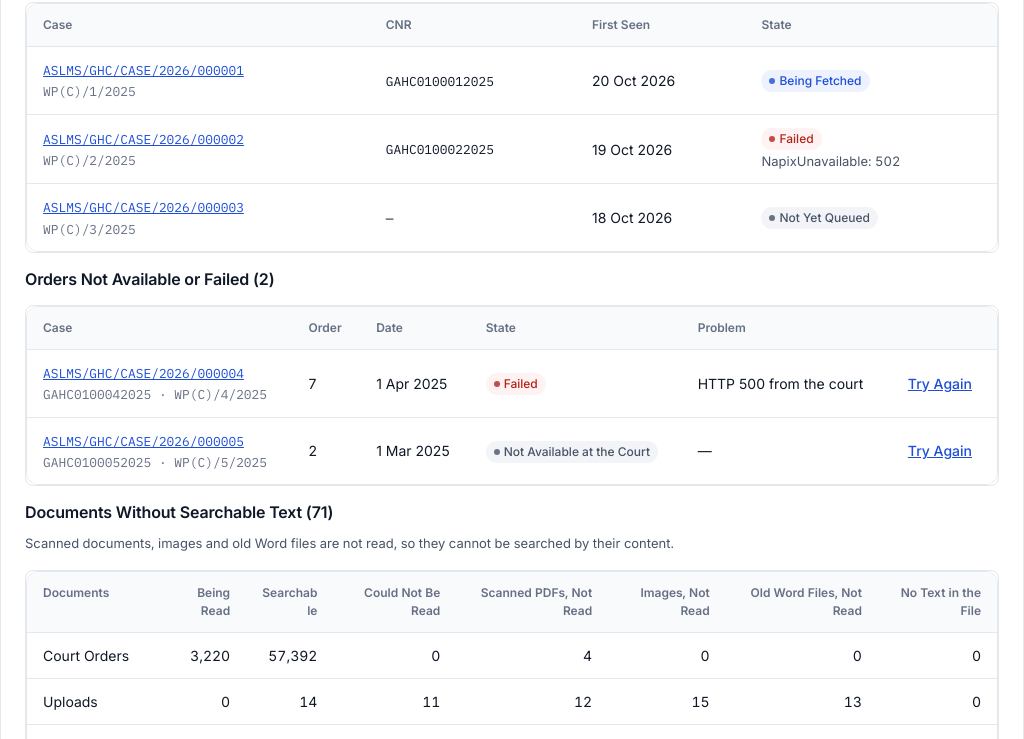
Test: Problems and Fixes (decisions 42-46) › Data Gaps: the orders with Try Again for admin.napix_refetch, and no Collect These without admin.data_load
(page scrolled)
Check: the text "Not Available at the Court" is shown, box [504,442,650,460]
Check: the text "HTTP 500 from the court" is shown, box [698,373,871,394]
Click the button "Try Again" in the row of "ASLMS/GHC/CASE/2026/000004" at (940, 384), box [903,375,977,394]
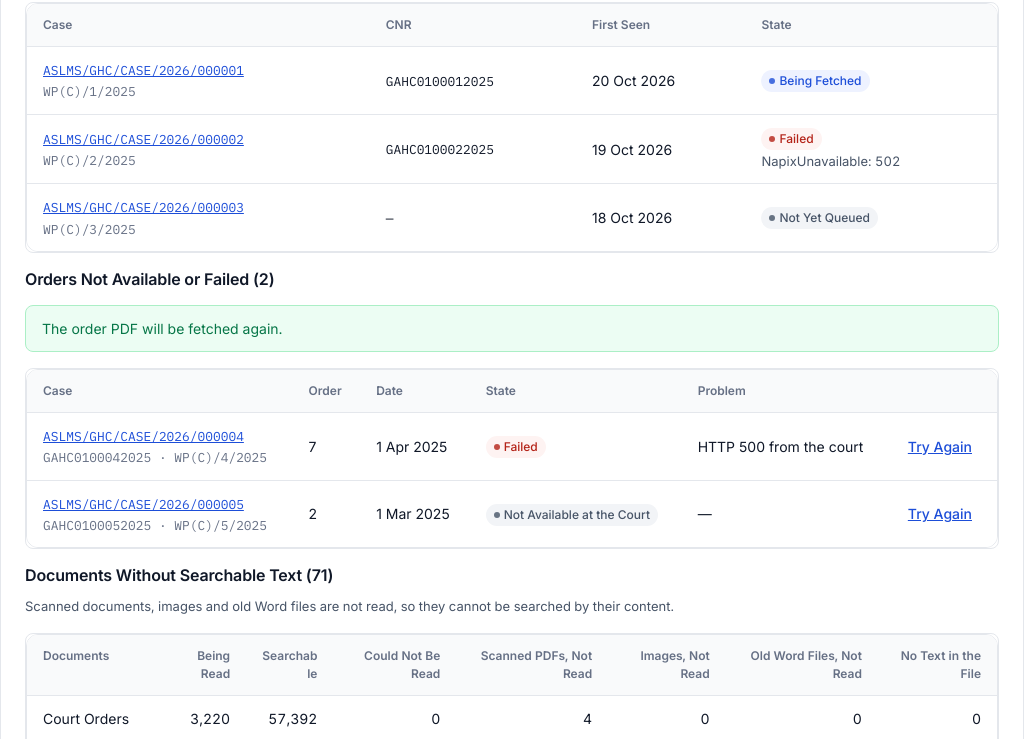
Check: the column heading "Scanned PDFs, Not Read" is shown, box [456,635,608,696]
Check: the text "The order PDF will be fetched again." is shown, box [25,305,999,352]
